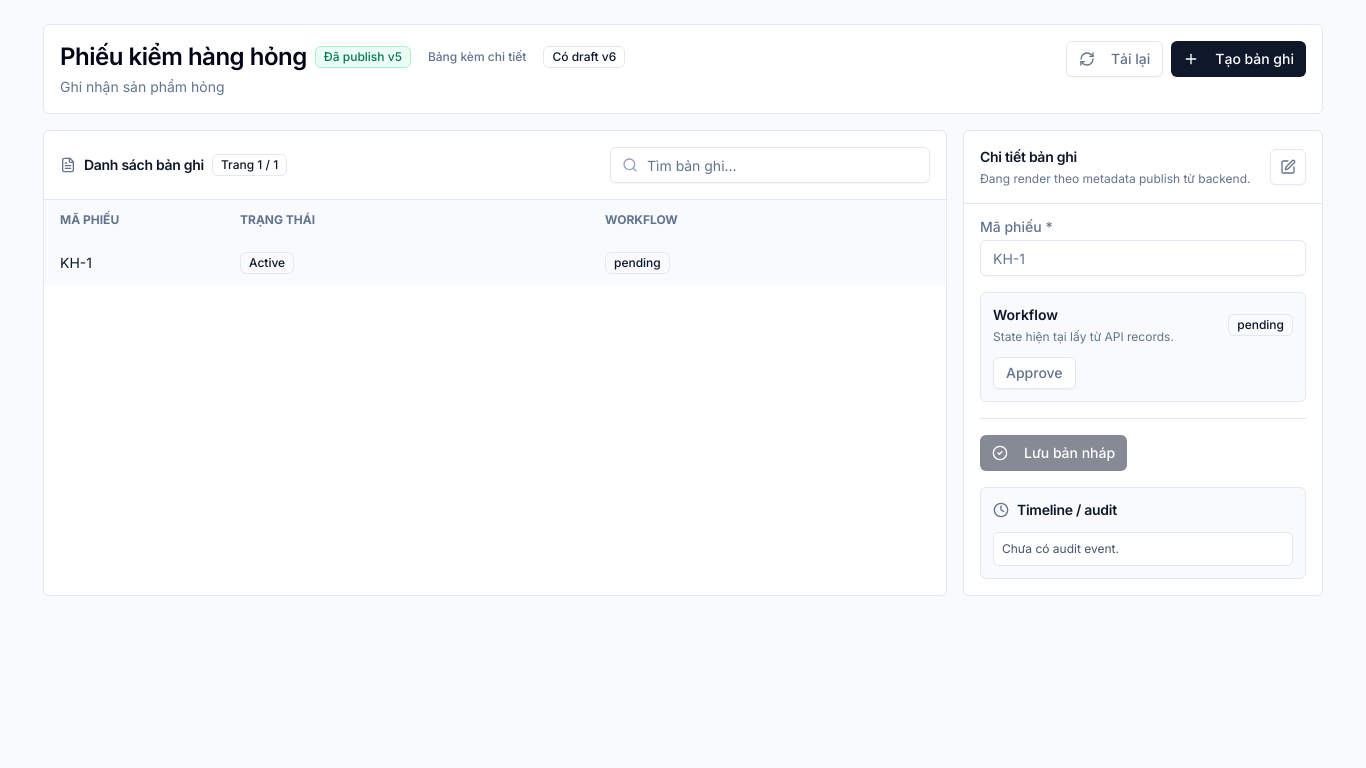
Scenario: CustomRuntimePage › transitions records through the runtime transition API
Step 1. Click the button "Approve" → (1034, 373), box [993,357,1076,389]
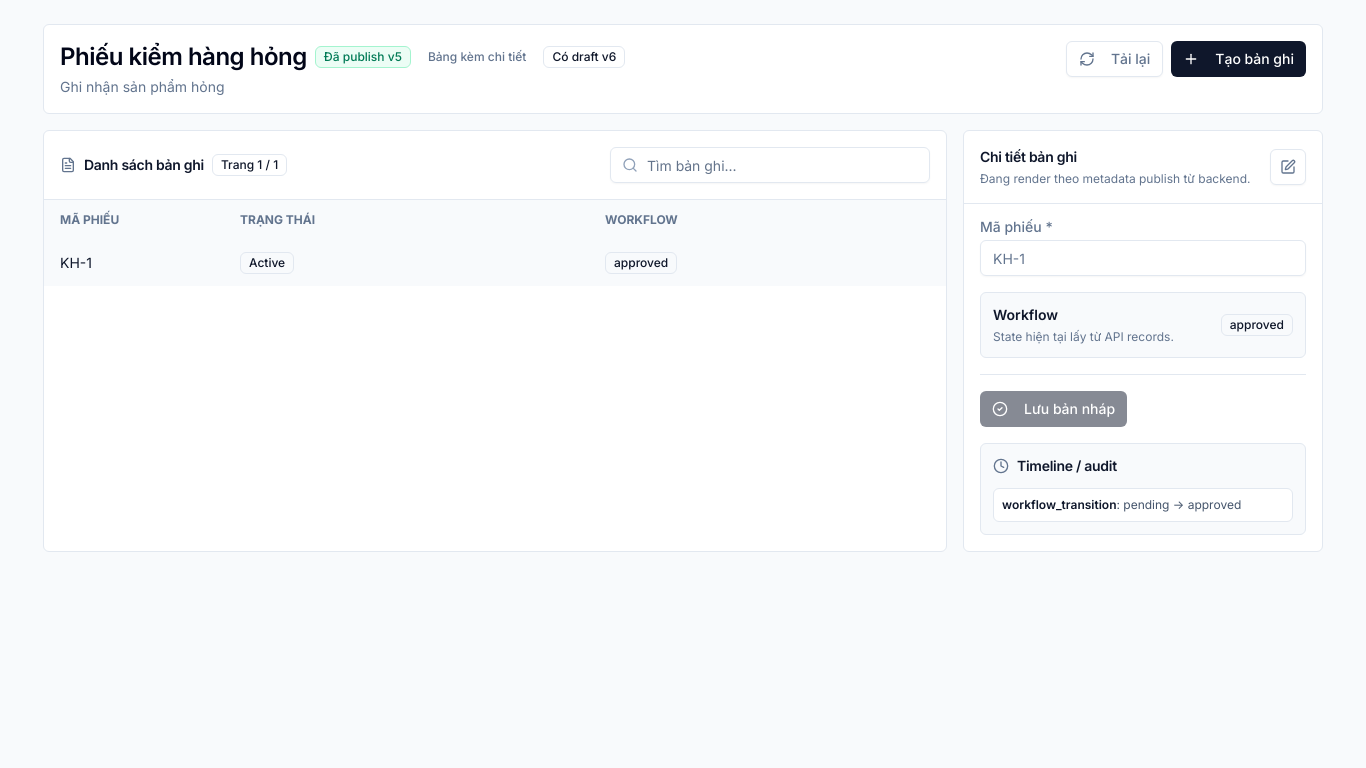
Now the text "approved" in the row of "Active" is shown, box [614,255,668,270]
